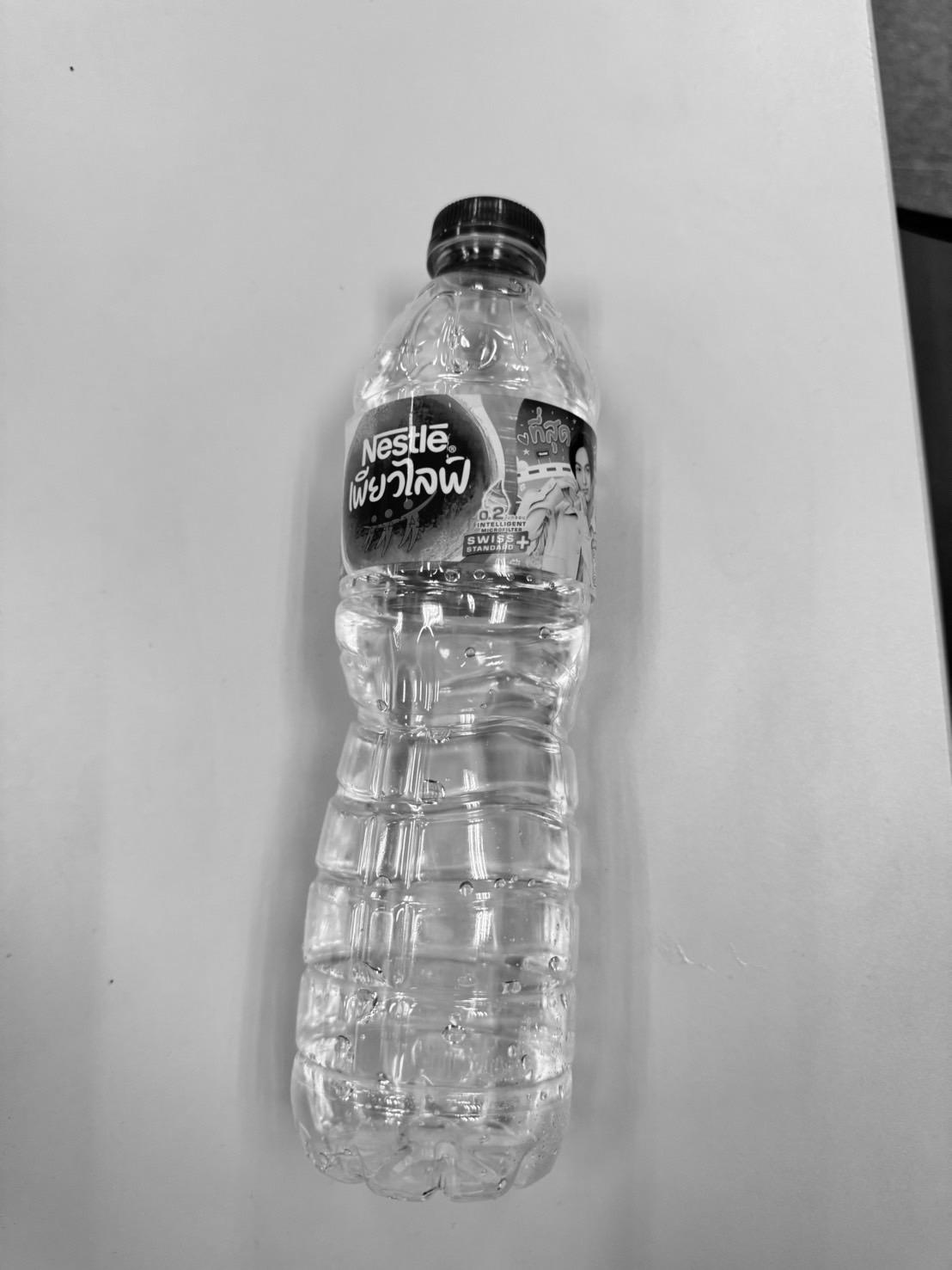bottle: (292, 200, 597, 1200)
